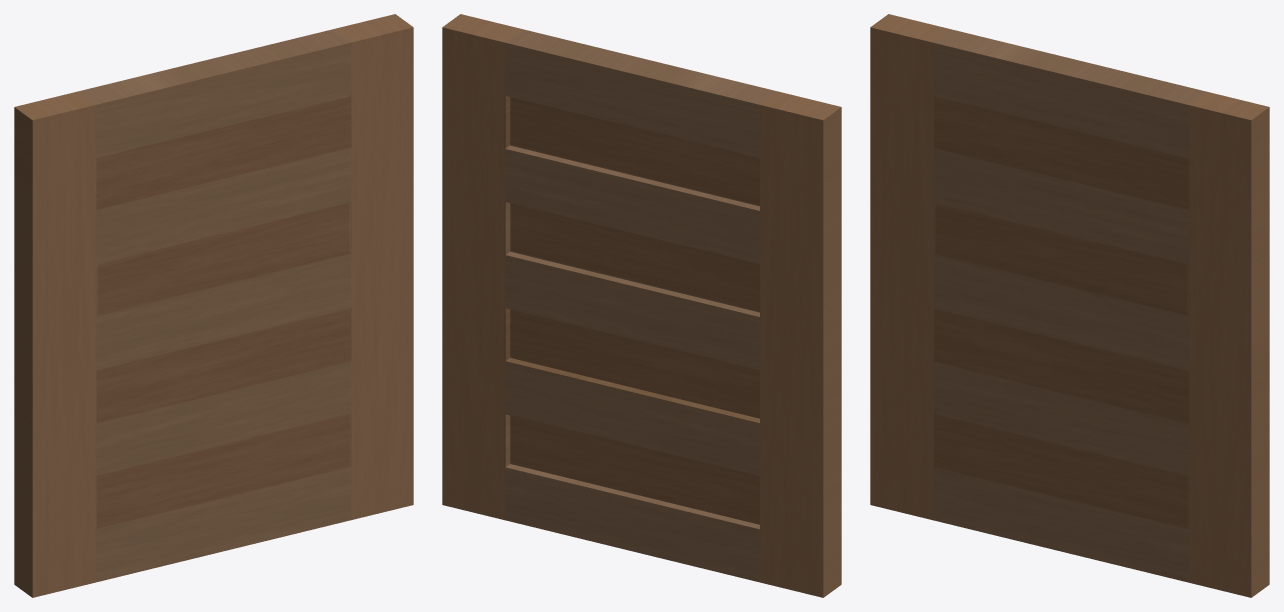
The model's file is sanmonDoorR.obj.
The picture shows the model from 3 angles, left to right: view 1: azimuth 30°, elevation 25°; view 2: azimuth 150°, elevation 25°; view 3: azimuth 330°, elevation 25°; orthographic projection.
Parts seen in each view (by area): view 1: 立方体.001; view 2: 立方体.001; view 3: 立方体.001.
Part boxes in pixels (x1=…): 立方体.001: x1=14, y1=14, x2=413, y2=597; 立方体.001: x1=442, y1=14, x2=841, y2=597; 立方体.001: x1=870, y1=14, x2=1269, y2=597.
Size of the model in its own units: 6.24 by 7.47 by 0.5176.
1 material, 1 textured.
